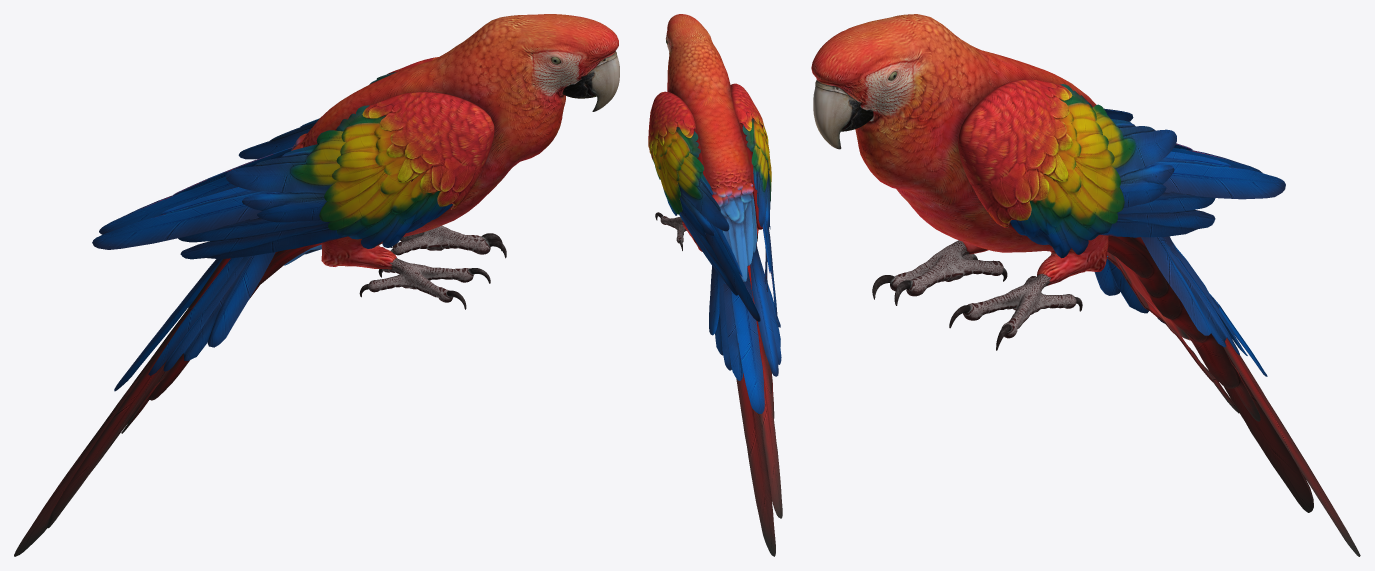
Rendered from Kiwi.fbx.
3 views of the same model, side by side, from view 1: azimuth 30°, elevation 25°; view 2: azimuth 150°, elevation 25°; view 3: azimuth 270°, elevation 25° (orthographic). The views are drawn at different scales.
Visible parts, largest first — view 1: node_id35_1; view 2: node_id35_1; view 3: node_id35_1.
Boxes of the visible parts, left/top/right/bottom form: node_id35_1: left=14, top=14, right=619, bottom=556; node_id35_1: left=648, top=14, right=782, bottom=556; node_id35_1: left=811, top=14, right=1360, bottom=556.
Size of the model in its own units: 27.91 by 42 by 28.79.
